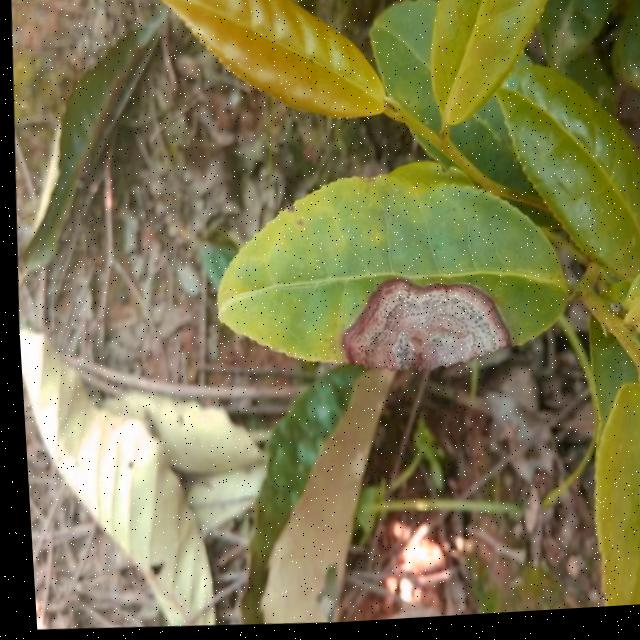Tea cloud leaf blight: (339, 275, 513, 386)
